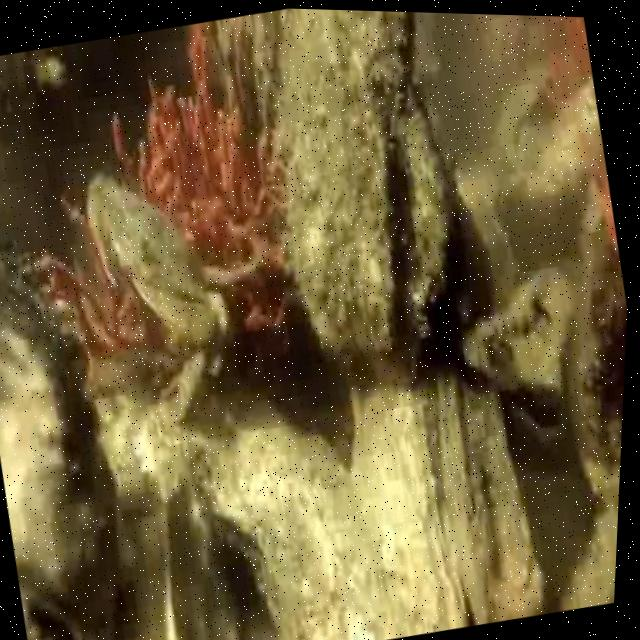Oyster-Indeterminate: (0, 253, 114, 640)
Oyster-Open: (279, 9, 449, 392), (20, 592, 86, 640)
